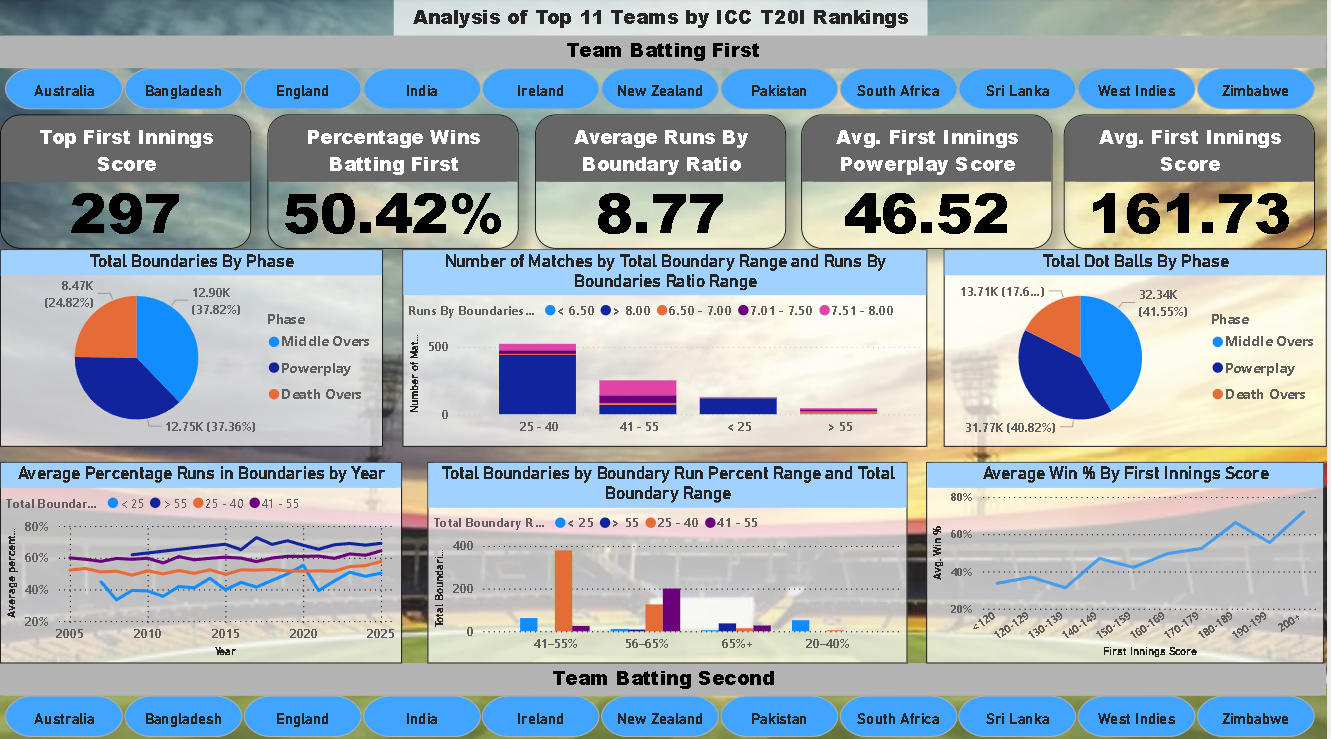

This screenshot's page, from the dashboard's own definition file:
{"tool":"powerbi","page":{"name":"Top 11 Teams","canvas":[1280,720],"ordinal":1},"visuals":[{"type":"card","title":"Avg. First Innings Score","fields":{"Values":["Top_12_Teams.Average 1st Innings Powerplay Score"]},"box":[1027.2,114,242.4,129.8],"z":0},{"type":"textbox","box":[379.4,0,515.1,37.5],"z":1000},{"type":"advancedSlicerVisual","title":"Team Batting First","fields":{"Values":["Top_12_Teams.team1"]},"box":[0,37.5,1279.7,76.5],"z":2000},{"type":"card","title":"Avg. First Innings Powerplay Score","fields":{"Values":["Top_12_Teams.Average 1st Innings Powerplay Score"]},"box":[773.3,114,242.4,129.8],"z":3000},{"type":"card","title":"Average Runs By Boundary Ratio","fields":{"Values":["Top_11_Teams.Avg_Runs_By_Boundary_1stInn"]},"box":[516.5,114,242.4,129.8],"z":4000},{"type":"card","title":"Percentage Wins Batting First","fields":{"Values":["Top_11_Teams.Pct_Matches_Won_Batting_First"]},"box":[258.3,114,242.4,129.8],"z":5000},{"type":"card","title":"Top First Innings Score","fields":{"Values":["Top_11_Teams.Top_1st_Innings_Score"]},"box":[0,114,242.4,129.8],"z":6000},{"type":"advancedSlicerVisual","title":"Team Batting Second","fields":{"Values":["Top_11_Teams.team2"]},"box":[0,643.5,1279.7,76.5],"z":7000},{"type":"pieChart","title":"Total Boundaries By Phase ","fields":{"Category":["Boundary Phases.Phase"],"Y":["Top_11_Teams.Total_Boundaries_By_Phase"]},"box":[0,243.8,369.3,190.4],"z":8000},{"type":"columnChart","title":"Number of Matches by Total Boundary Range and Runs By Boundaries Ratio Range","fields":{"Category":["Top_11_Teams.Total_Boundary_Range"],"Series":["Top_11_Teams.Runs_By_Boundaries_Ratio_Range"],"Y":["CountNonNull(Top_11_Teams.match_id)"]},"box":[388.1,243.8,506.4,190.4],"z":9000},{"type":"pieChart","title":"Total Dot Balls By Phase ","fields":{"Category":["Dot Ball Phases.Phase"],"Y":["Dot Ball Phases.Total Dot Balls by Phase"]},"box":[910.4,243.8,369.3,190.4],"z":10000},{"type":"clusteredColumnChart","title":"Total Boundaries by Boundary Run Percent Range and Total Boundary Range","fields":{"Category":["Top_11_Teams.Boundary_Run_Percent_Range"],"Series":["Top_11_Teams.Total_Boundary_Range"],"Y":["CountNonNull(Top_11_Teams.Total_Boundaries)"]},"box":[412.6,448.7,463.1,194.8],"z":11000},{"type":"lineChart","title":"Average Percentage Runs in Boundaries by Year","fields":{"Y":["Top_11_Teams.Average percentage Runs in Boundaries"],"Category":["Top_11_Teams.Year"],"Series":["Top_11_Teams.Total_Boundary_Range"]},"box":[0,448.7,388.1,194.8],"z":12000},{"type":"lineChart","title":"Average Win % By First Innings Score ","fields":{"Y":["Top_11_Teams.Avg_Win_Pct_By_First_Innings_Bin"],"Category":["Top_11_Teams.First_Innings_Score_Bin"]},"box":[894.5,448.7,383.8,194.8],"z":13000}]}

Visuals, with their boxes in screenshot pixels (x1, y1, x2, y2), scaled from the page's 1280x720 canvas onto the 1331x739 screenshot:
"Avg. First Innings Score" card: bbox=[1068, 117, 1320, 250]
textbox: bbox=[395, 0, 930, 38]
"Team Batting First" advancedSlicerVisual: bbox=[0, 38, 1330, 117]
"Avg. First Innings Powerplay Score" card: bbox=[804, 117, 1056, 250]
"Average Runs By Boundary Ratio" card: bbox=[537, 117, 789, 250]
"Percentage Wins Batting First" card: bbox=[269, 117, 521, 250]
"Top First Innings Score" card: bbox=[0, 117, 252, 250]
"Team Batting Second" advancedSlicerVisual: bbox=[0, 660, 1330, 738]
"Total Boundaries By Phase " pieChart: bbox=[0, 250, 384, 446]
"Number of Matches by Total Boundary Range and Runs By Boundaries Ratio Range" columnChart: bbox=[404, 250, 930, 446]
"Total Dot Balls By Phase " pieChart: bbox=[947, 250, 1330, 446]
"Total Boundaries by Boundary Run Percent Range and Total Boundary Range" clusteredColumnChart: bbox=[429, 461, 911, 660]
"Average Percentage Runs in Boundaries by Year" lineChart: bbox=[0, 461, 404, 660]
"Average Win % By First Innings Score " lineChart: bbox=[930, 461, 1329, 660]
